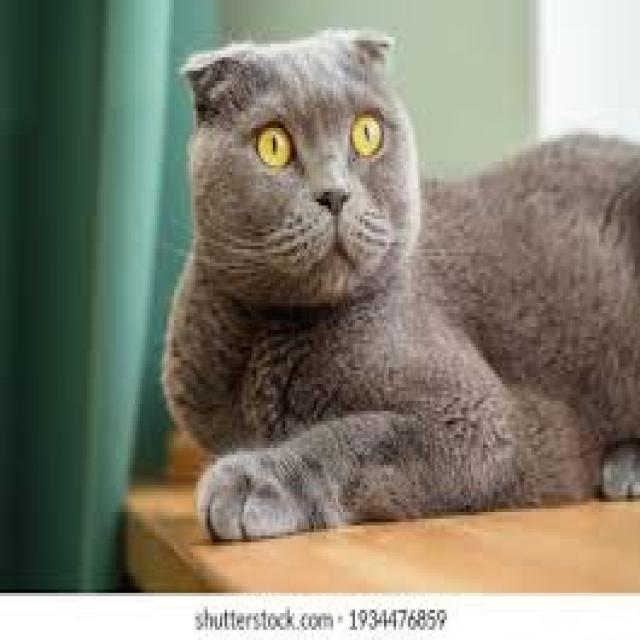Cat: (158, 26, 640, 556)
